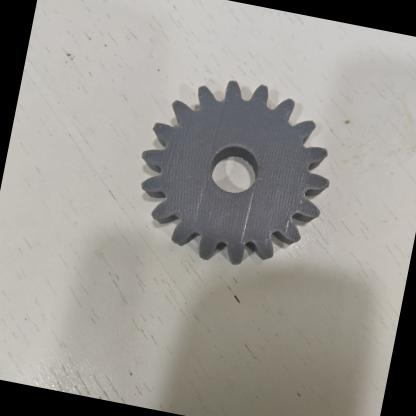gear: (110, 50, 352, 294)
